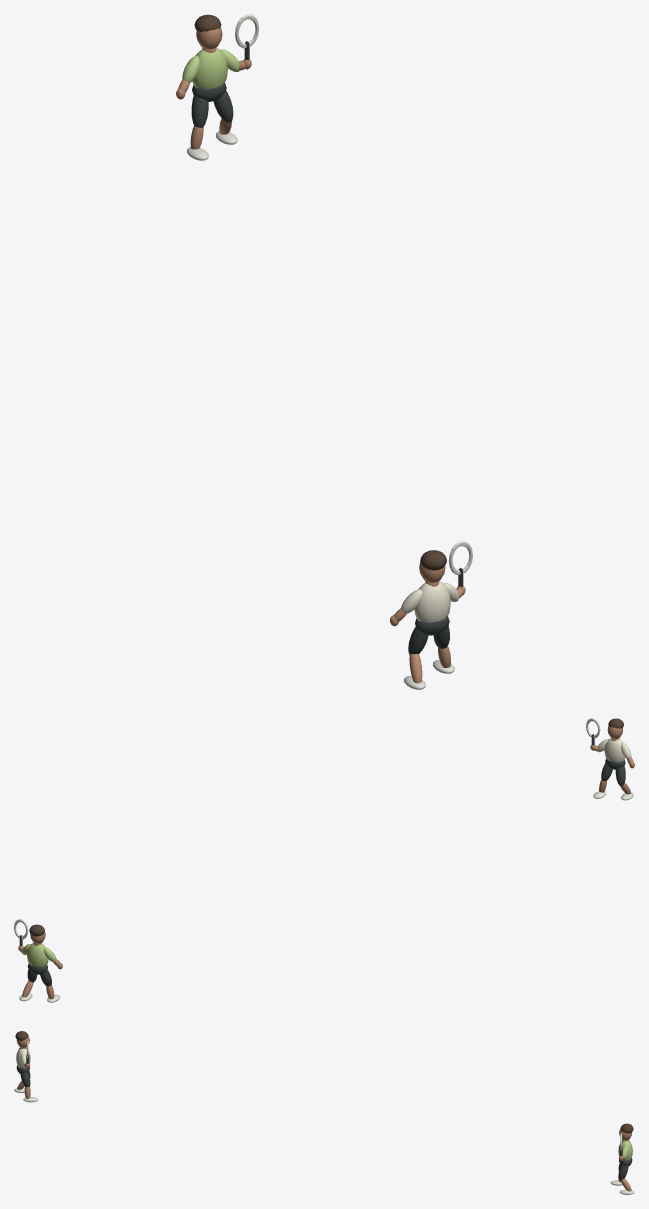
Rendered from acabado-tenis.glb.
3 views of the same model, one above another, from view 1: azimuth 30°, elevation 25°; view 2: azimuth 150°, elevation 25°; view 3: azimuth 270°, elevation 25° (orthographic). The views are drawn at different scales.
Parts seen in each view (by area): view 1: Grafito, Piel, Polo salvia, Lino, Chapa marfil; view 2: Grafito, Piel, Lino, Chapa marfil, Polo salvia; view 3: Piel, Grafito, Chapa marfil.
Boxes of the visible parts, x1,y1,x2,y2 form: Grafito: (191, 41, 463, 654); Piel: (176, 27, 465, 683); Polo salvia: (182, 47, 239, 89); Lino: (401, 581, 459, 622); Chapa marfil: (187, 14, 472, 689); Grafito: (19, 734, 625, 986); Piel: (18, 726, 634, 999); Lino: (597, 738, 631, 762); Chapa marfil: (14, 718, 633, 1002); Polo salvia: (22, 942, 56, 967); Piel: (16, 1036, 631, 1191); Grafito: (16, 1055, 632, 1180); Chapa marfil: (14, 1040, 634, 1194).
Size of the model in its own units: 5.84 by 1.58 by 13.61.
